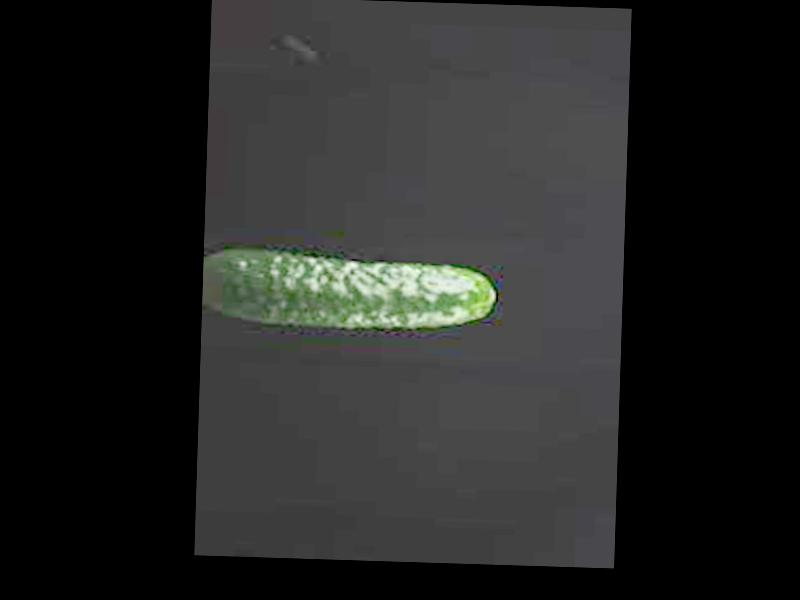Cucumber: (201, 247, 498, 332)
